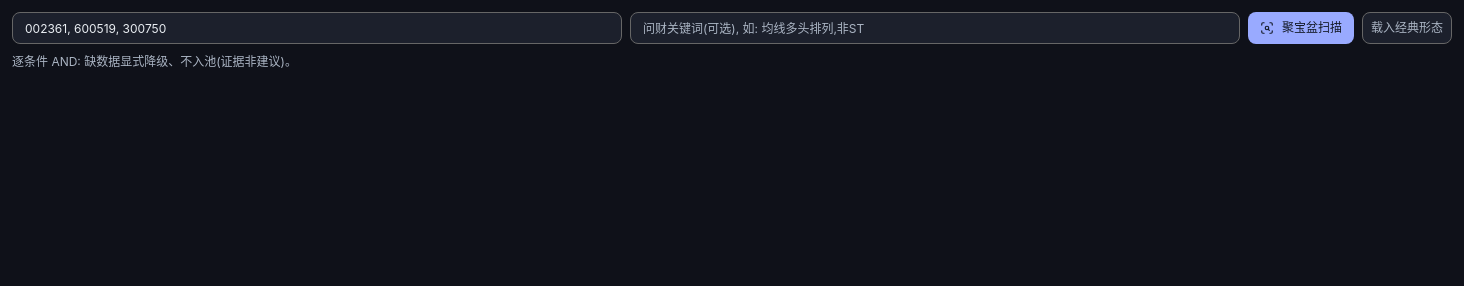
Scenario: JbpPoolTable 聚宝盆选股 › 点扫描 → 逐条件通过/未过明细 + 入池态
What coordinates should you click on to do the following:
click the button "聚宝盆扫描"
I would click on:
 (1301, 28)
Its box is [1248,12,1354,44].
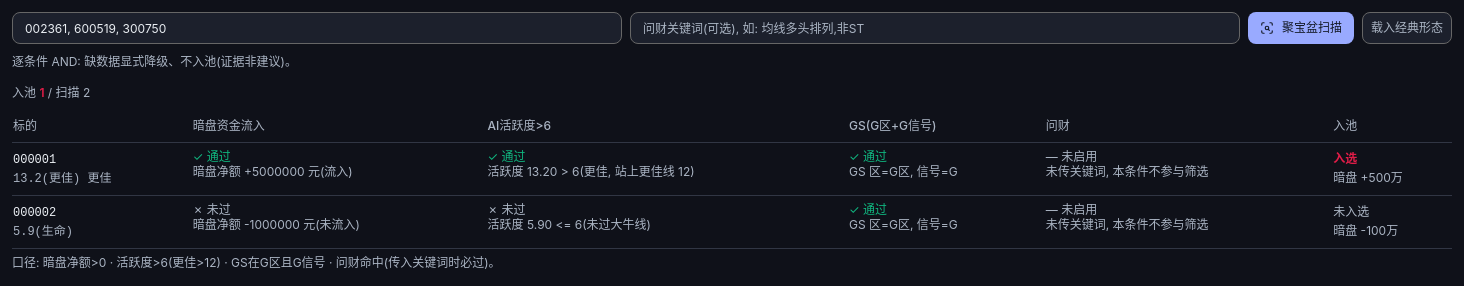
Expected: the element with test id "jbp-summary" is shown, [12,85,90,100]
Expected: the element with test id "jbp-summary" shows "入池", [12,85,39,100]
Expected: the element with test id "jbp-summary" shows "1", [39,85,44,100]
